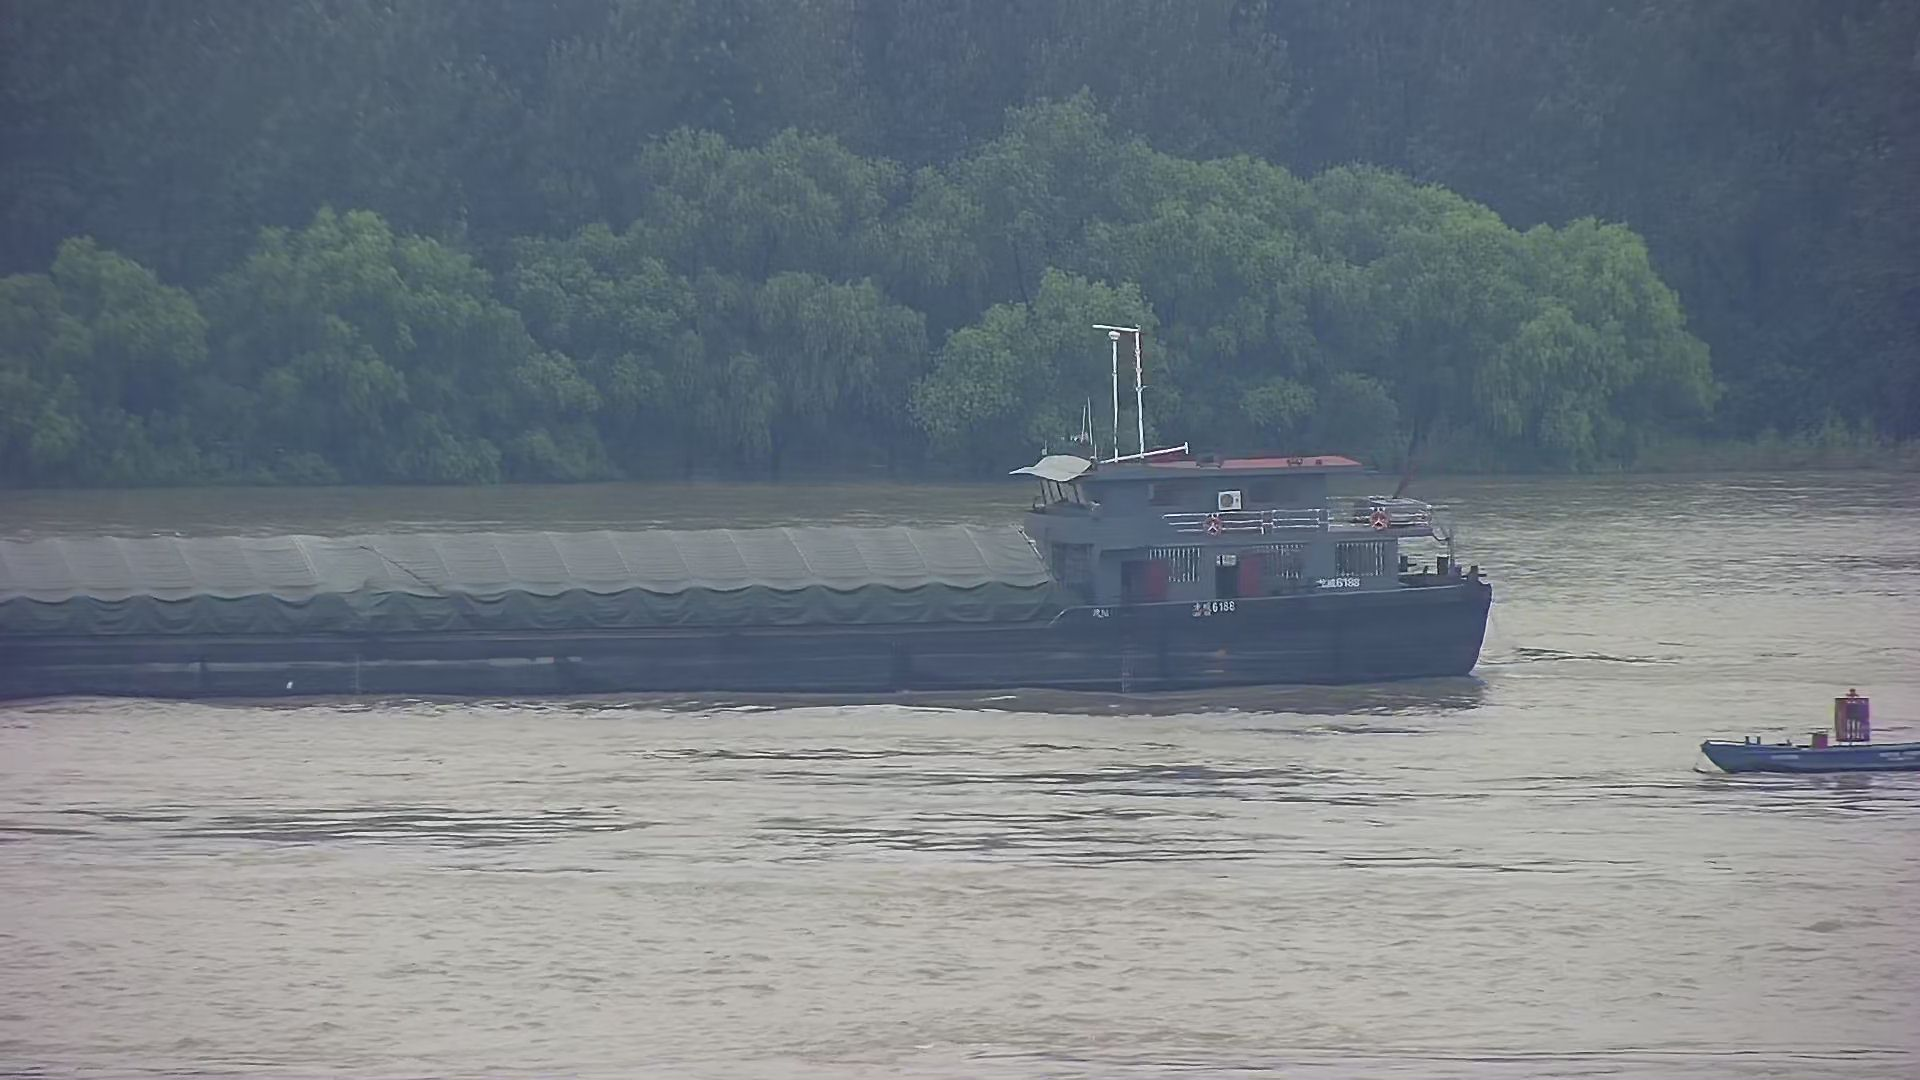boat: (1681, 670, 1919, 785)
ship: (1, 421, 1530, 713)
